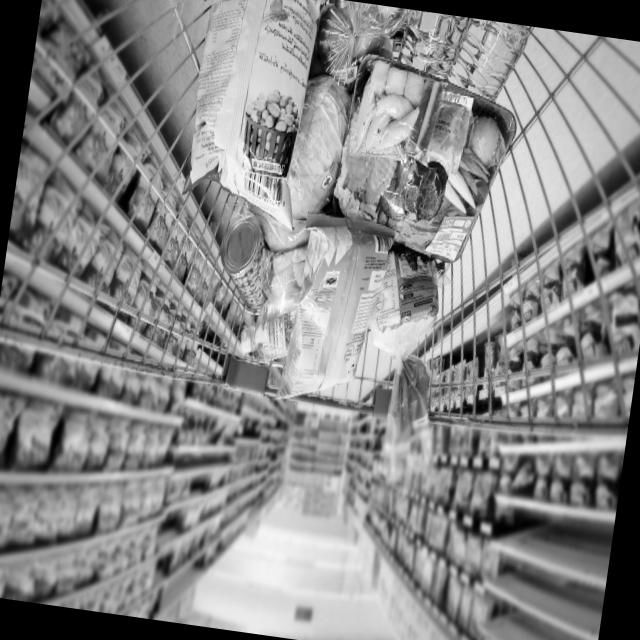banh mi: (356, 247, 458, 450)
bap cai: (279, 71, 364, 233)
dau: (235, 302, 308, 384)
tao: (320, 3, 390, 83)
